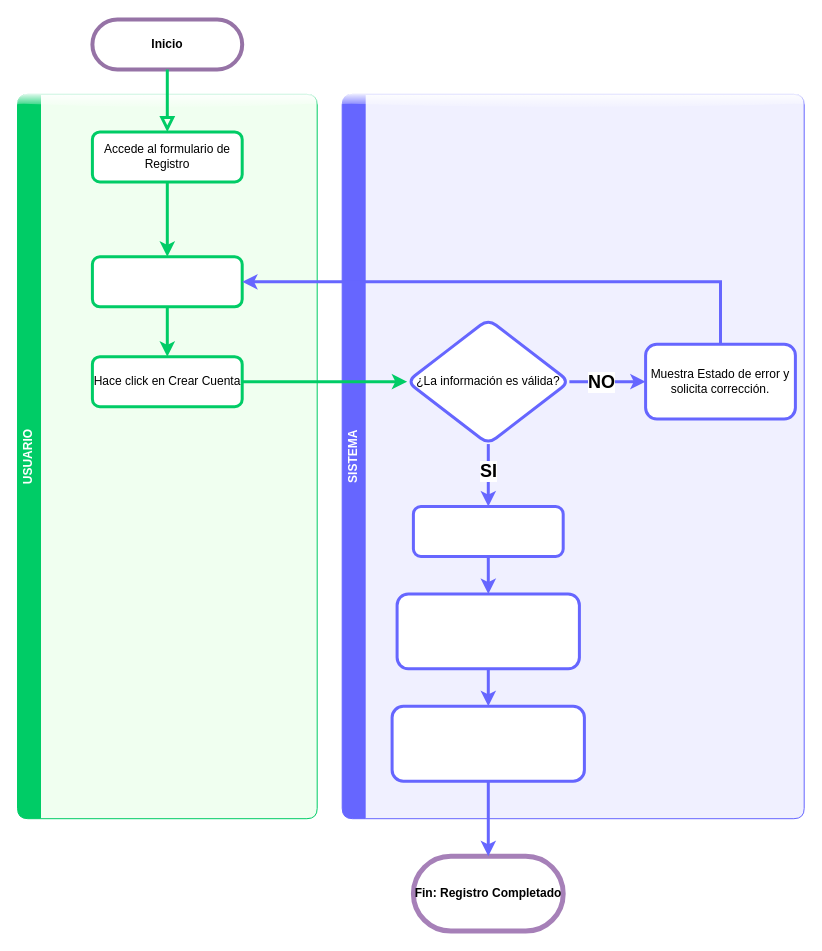
Image size: 822x951. Some labels were removed from this diagram. The centre of each missing label's shape, as x and y in pixels:
Crea la cuenta en la base de datos: the point at 487,531
Ingresa sus datos en el formulario: the point at 166,281
Muestra confirmación visual "Cuenta creada con éxito": the point at 487,631
Redirige a la pantalla de Inicio de Sesión.: the point at 487,743
